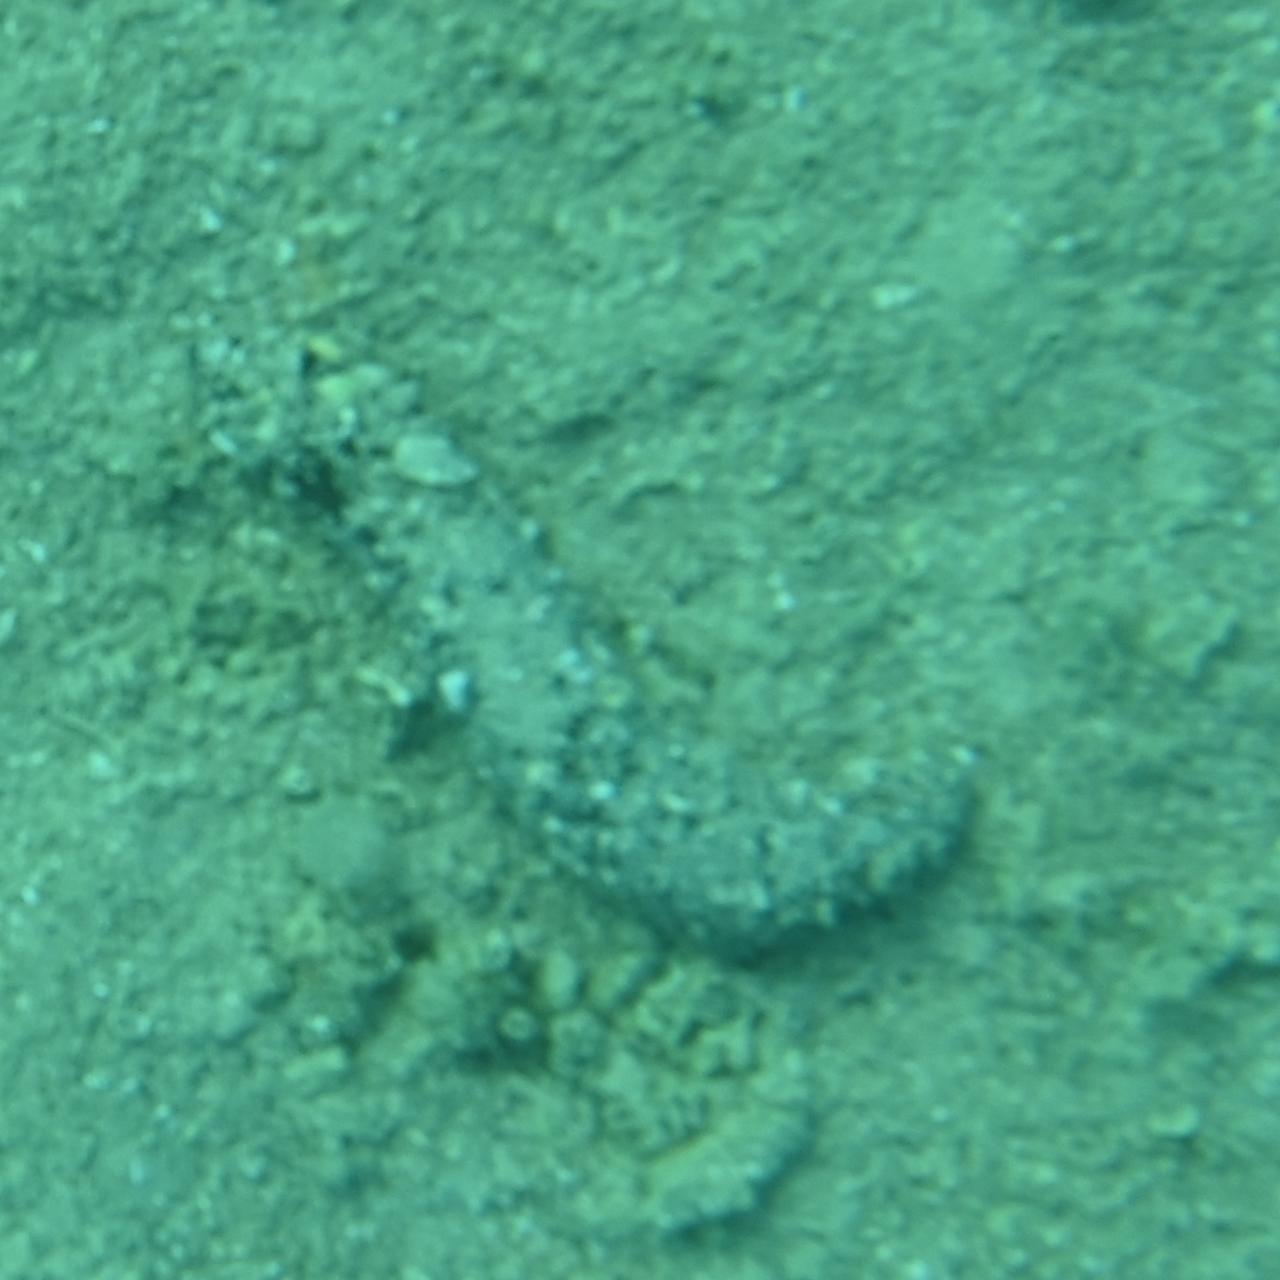Holothuria tubulosa: (276, 302, 1004, 978)
